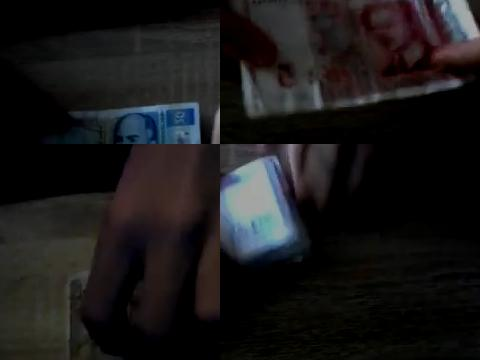10leva: (69, 190, 220, 360), (69, 278, 220, 360)
20leva: (220, 156, 314, 279), (112, 113, 154, 144)
5leva: (235, 0, 436, 118)
